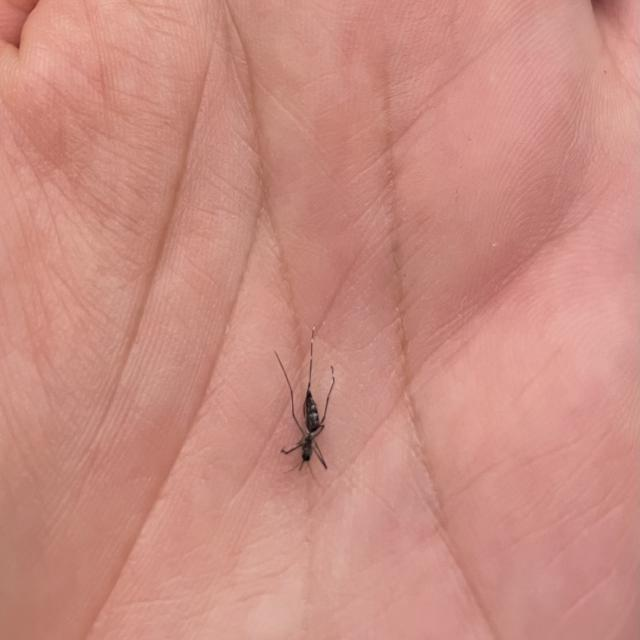albopictus: (266, 324, 341, 478)
